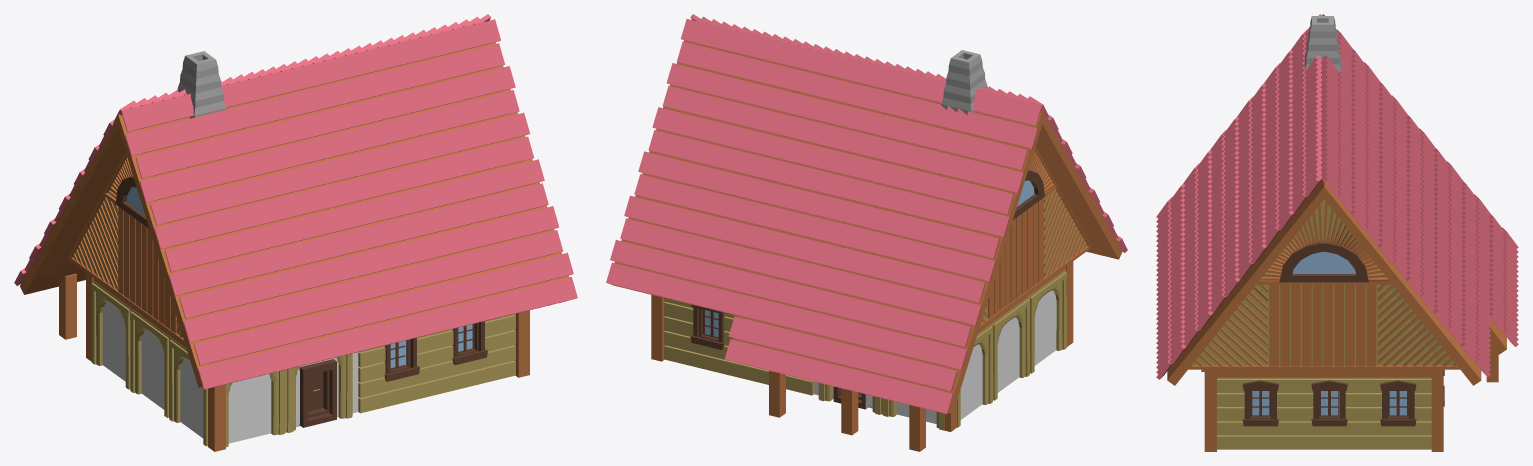
File: roubenka-unwrap.fbx
3 views of the same model, side by side, from view 1: azimuth 30°, elevation 25°; view 2: azimuth 150°, elevation 25°; view 3: azimuth 270°, elevation 25° (orthographic). The views are drawn at different scales.
Visible parts, largest first — view 1: Cube; view 2: Cube; view 3: Cube.
Boxes of the visible parts, x1=… form: Cube: x1=14, y1=14, x2=577, y2=451; Cube: x1=606, y1=14, x2=1127, y2=451; Cube: x1=1156, y1=14, x2=1518, y2=451.
Bounding box in the file's own units: 498 × 426 × 450.
